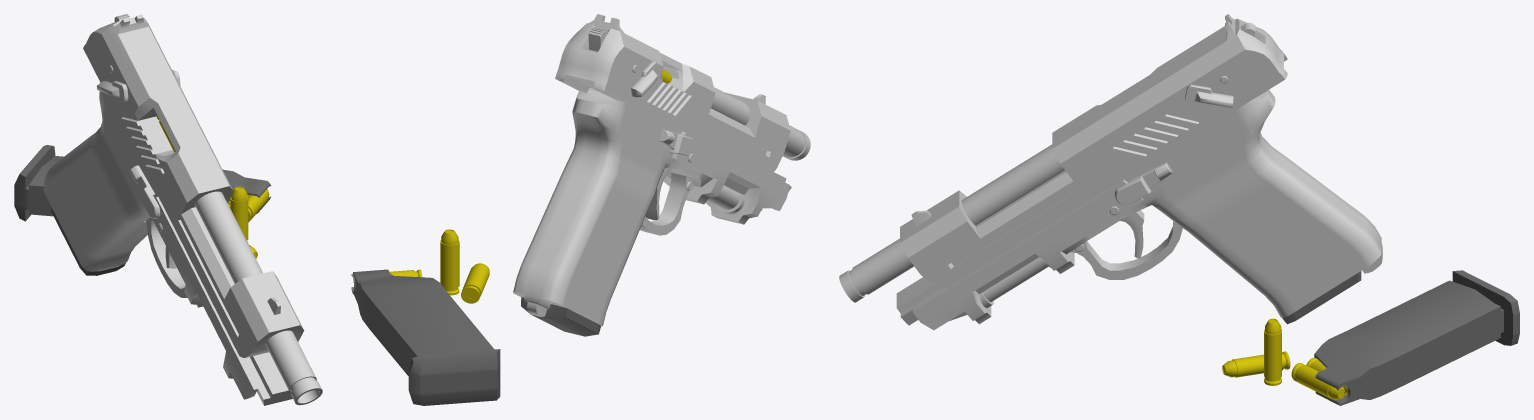
The model's file is Pistol.fbx.
3 renders of one model, left to right at view 1: azimuth 30°, elevation 25°; view 2: azimuth 150°, elevation 25°; view 3: azimuth 270°, elevation 25°, orthographic. The views are drawn at different scales.
Visible parts, largest first — view 1: Cube.003, Cube, Cube.004, Cube.026, Cylinder.004, Cube.010, Cube.011, Cube.008, Cylinder.008; view 2: Cube, Cube.003, Cube.026, Cube.004, Cube.008, Cylinder.004, Cylinder.009, Cube.005, Cube.010, Cube.011, Cube.006; view 3: Cube, Cube.003, Cube.026, Cube.004, Cylinder.004, Cube.010, Cube.005, Cylinder.009, Cylinder.008, Cube.011, Cube.008.
Part boxes in pixels (x1,y1,x2,y2): Cube.003: (83, 14, 304, 357); Cube: (43, 82, 292, 405); Cube.004: (195, 191, 322, 405); Cube.026: (14, 145, 271, 221); Cylinder.004: (230, 186, 248, 243); Cube.010: (130, 165, 160, 218); Cube.011: (96, 69, 180, 102); Cube.008: (51, 207, 125, 275); Cylinder.008: (248, 189, 269, 222); Cube: (513, 87, 791, 326); Cube.003: (555, 14, 790, 174); Cube.026: (351, 269, 500, 405); Cube.004: (662, 66, 810, 160); Cube.008: (521, 297, 600, 336); Cylinder.004: (440, 229, 459, 295); Cylinder.009: (461, 263, 489, 303); Cube.005: (707, 185, 744, 213); Cube.010: (659, 129, 694, 156); Cube.011: (631, 61, 658, 97); Cube.006: (645, 167, 671, 219); Cube: (896, 90, 1382, 330); Cube.003: (900, 14, 1287, 288); Cube.026: (1314, 270, 1519, 405); Cube.004: (839, 144, 1064, 302); Cylinder.004: (1264, 318, 1281, 385); Cube.010: (1114, 162, 1172, 205); Cube.005: (979, 257, 1050, 307); Cylinder.009: (1222, 351, 1290, 377); Cylinder.008: (1291, 363, 1345, 399); Cube.011: (1185, 84, 1233, 107); Cube.008: (1282, 271, 1361, 324).
Size of the model in its own units: 482 by 577 by 1179.
